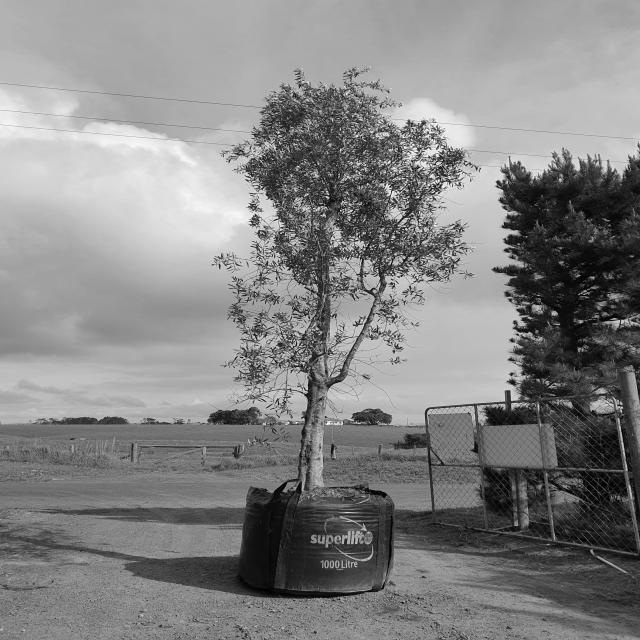Olea nabali: (234, 79, 437, 482)
